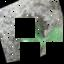Morning glory: (0, 0, 64, 64)
